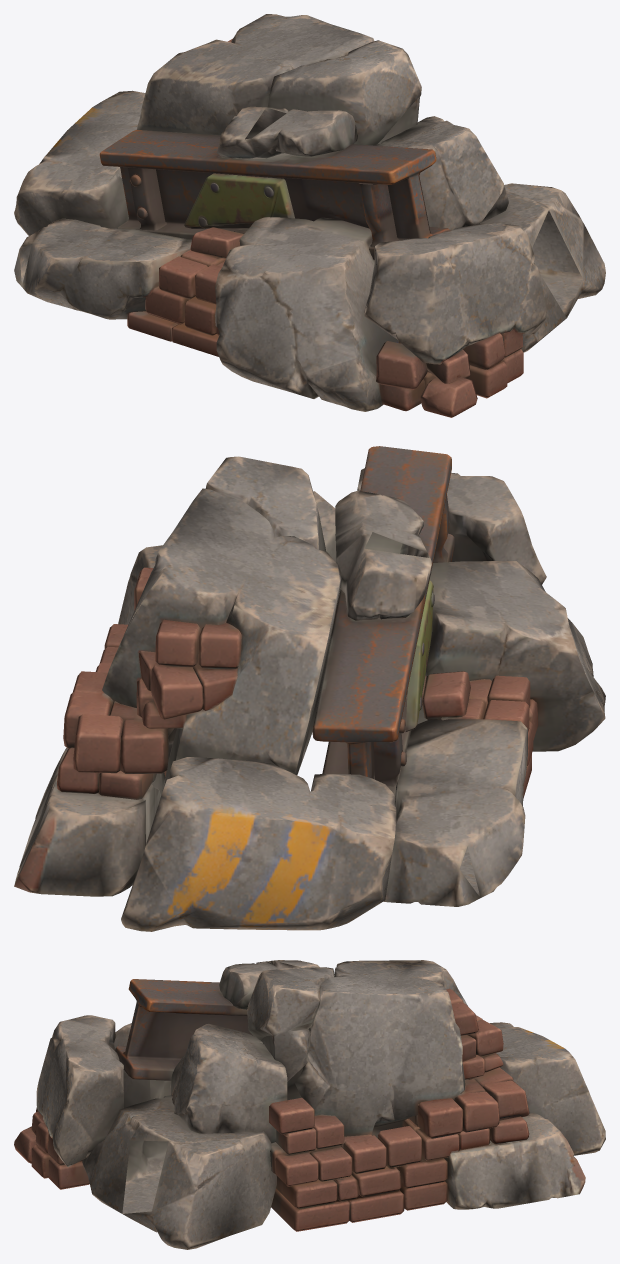
The model's file is rubble.fbx.
The picture shows the model from 3 angles, top to bottom: view 1: azimuth 30°, elevation 25°; view 2: azimuth 150°, elevation 25°; view 3: azimuth 270°, elevation 25°; orthographic projection. The views are drawn at different scales.
Parts seen in each view (by area): view 1: b696a5f2_5606_4031_bcfa_df0b55c6f3f3; view 2: b696a5f2_5606_4031_bcfa_df0b55c6f3f3; view 3: b696a5f2_5606_4031_bcfa_df0b55c6f3f3.
Boxes of the visible parts, box(x1,y1,x2,y2) form: b696a5f2_5606_4031_bcfa_df0b55c6f3f3: box(14, 14, 605, 417); b696a5f2_5606_4031_bcfa_df0b55c6f3f3: box(14, 446, 605, 931); b696a5f2_5606_4031_bcfa_df0b55c6f3f3: box(14, 960, 605, 1249).
Bounding box in the file's own units: 246 × 123 × 320.
